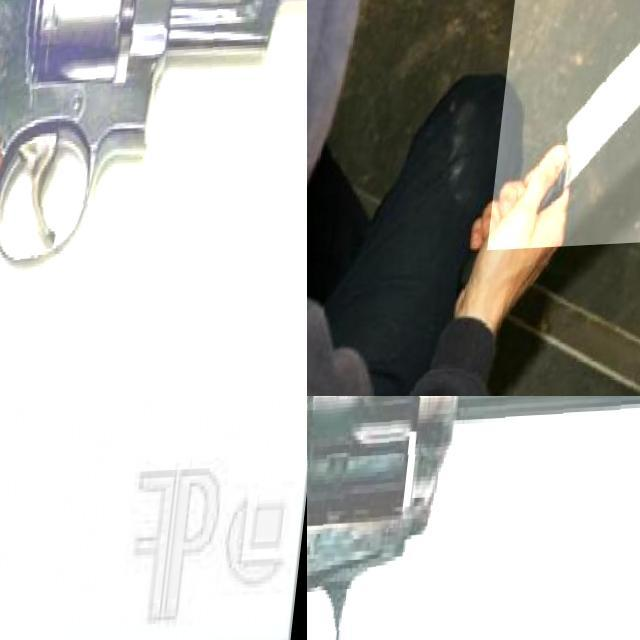-: (496, 0, 640, 254)
gun-knife-thesis - v11 Yolov5 augmented: (0, 0, 307, 396), (307, 396, 640, 640), (0, 396, 212, 498)
